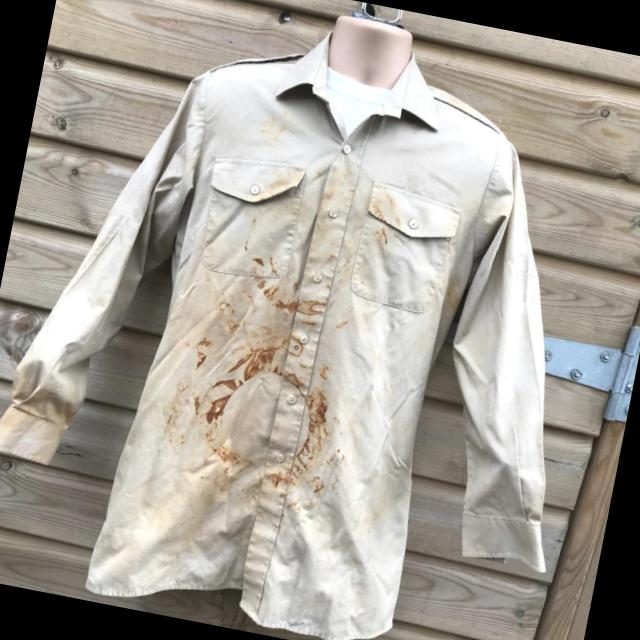stain: (199, 339, 342, 494), (0, 369, 80, 459), (277, 286, 338, 326), (243, 264, 285, 312), (364, 197, 400, 247), (432, 269, 468, 311)
